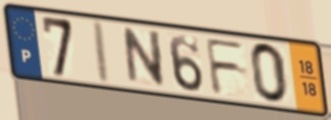0: (248, 42, 291, 105)
6: (166, 33, 205, 94)
7: (40, 13, 75, 80)
F: (203, 37, 248, 97)
I: (93, 18, 113, 87)
N: (121, 26, 167, 89)
